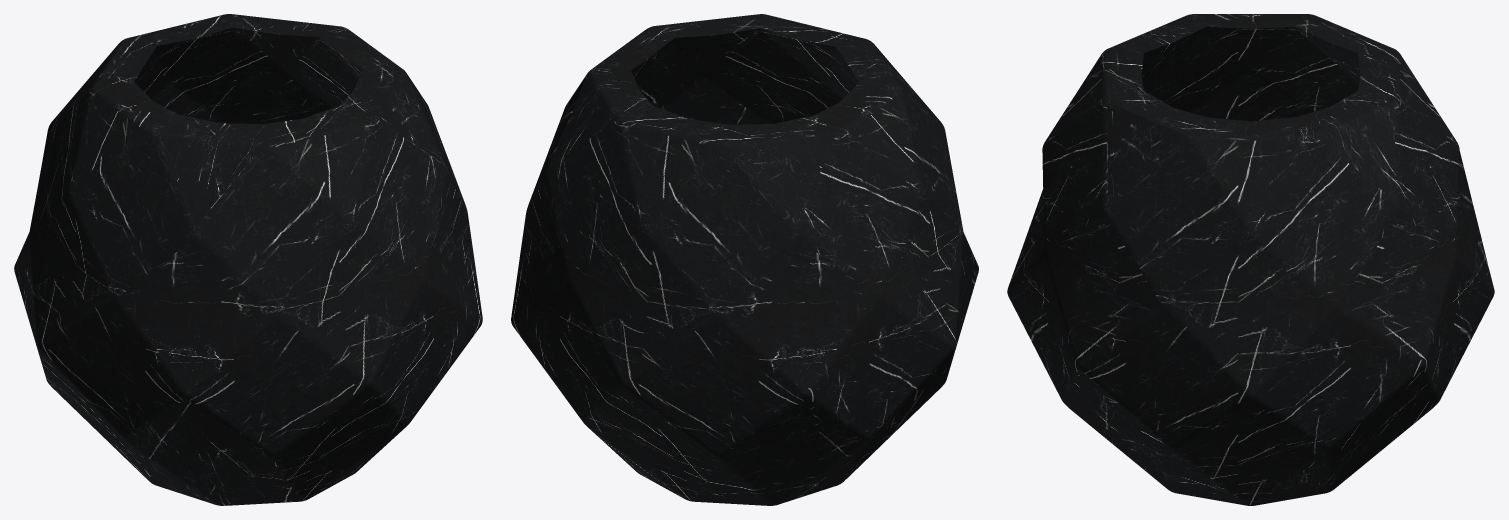
File: Vase Final.glb
The picture shows the model from 3 angles, left to right: view 1: azimuth 30°, elevation 25°; view 2: azimuth 150°, elevation 25°; view 3: azimuth 270°, elevation 25°; orthographic projection.
Visible parts, largest first — view 1: Cylinder001; view 2: Cylinder001; view 3: Cylinder001.
Part boxes in pixels (x1,y1,x2,y2): Cylinder001: (14, 14, 482, 505); Cylinder001: (511, 14, 978, 505); Cylinder001: (1007, 14, 1494, 505).
Size of the model in its own units: 2.44 by 2.14 by 2.44.
1 material, 1 textured.
